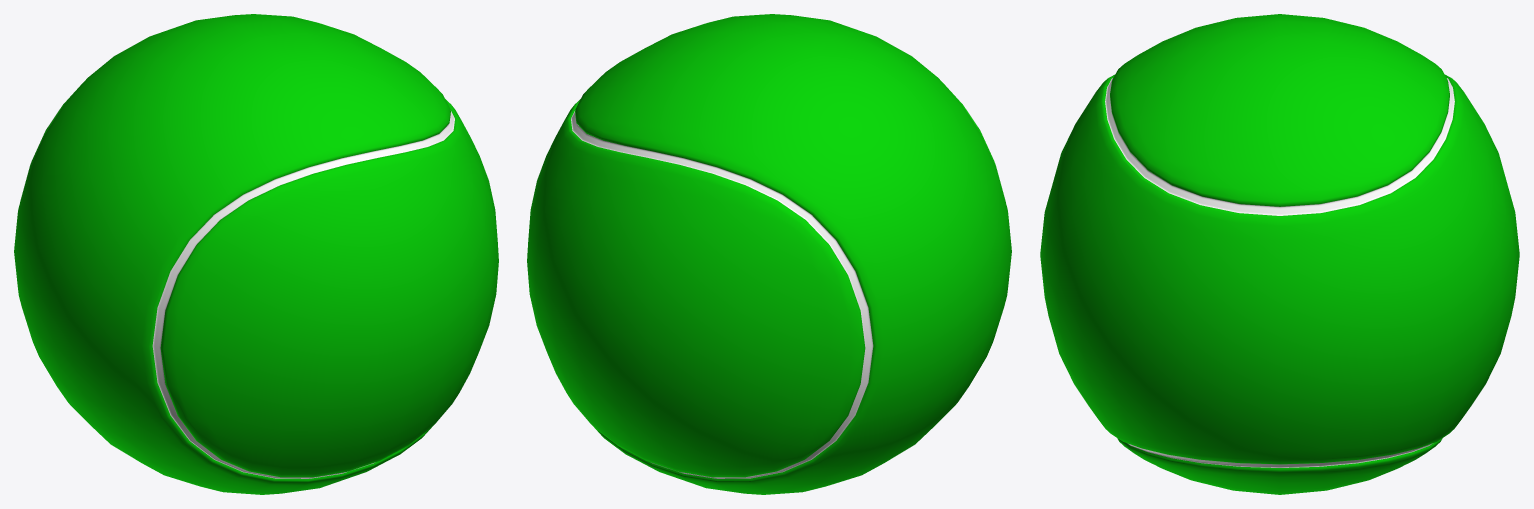
Rendered from Tennis Ball.FBX.
3 renders of one model, left to right at view 1: azimuth 30°, elevation 25°; view 2: azimuth 150°, elevation 25°; view 3: azimuth 270°, elevation 25°, orthographic.
Visible parts, largest first — view 1: Box001; view 2: Box001; view 3: Box001.
Boxes of the visible parts, x1,y1,x2,y2 form: Box001: (14,14,498,494); Box001: (527,14,1011,494); Box001: (1040,14,1519,494).
Bounding box in the file's own units: 126 × 125 × 125.
